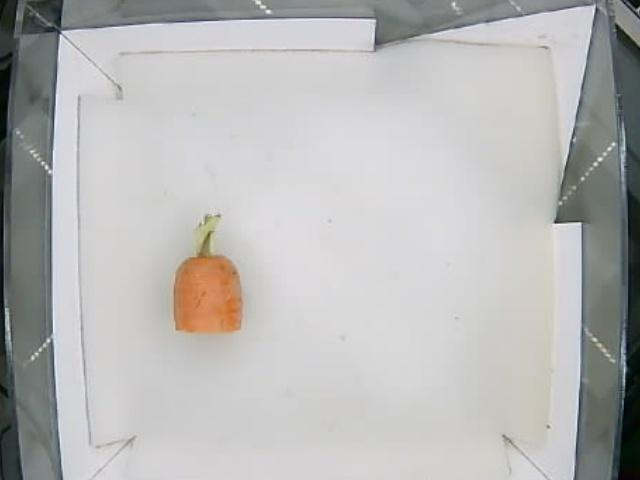Carrot: (171, 212, 243, 333)
